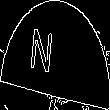N_S: (41, 26, 69, 84)
